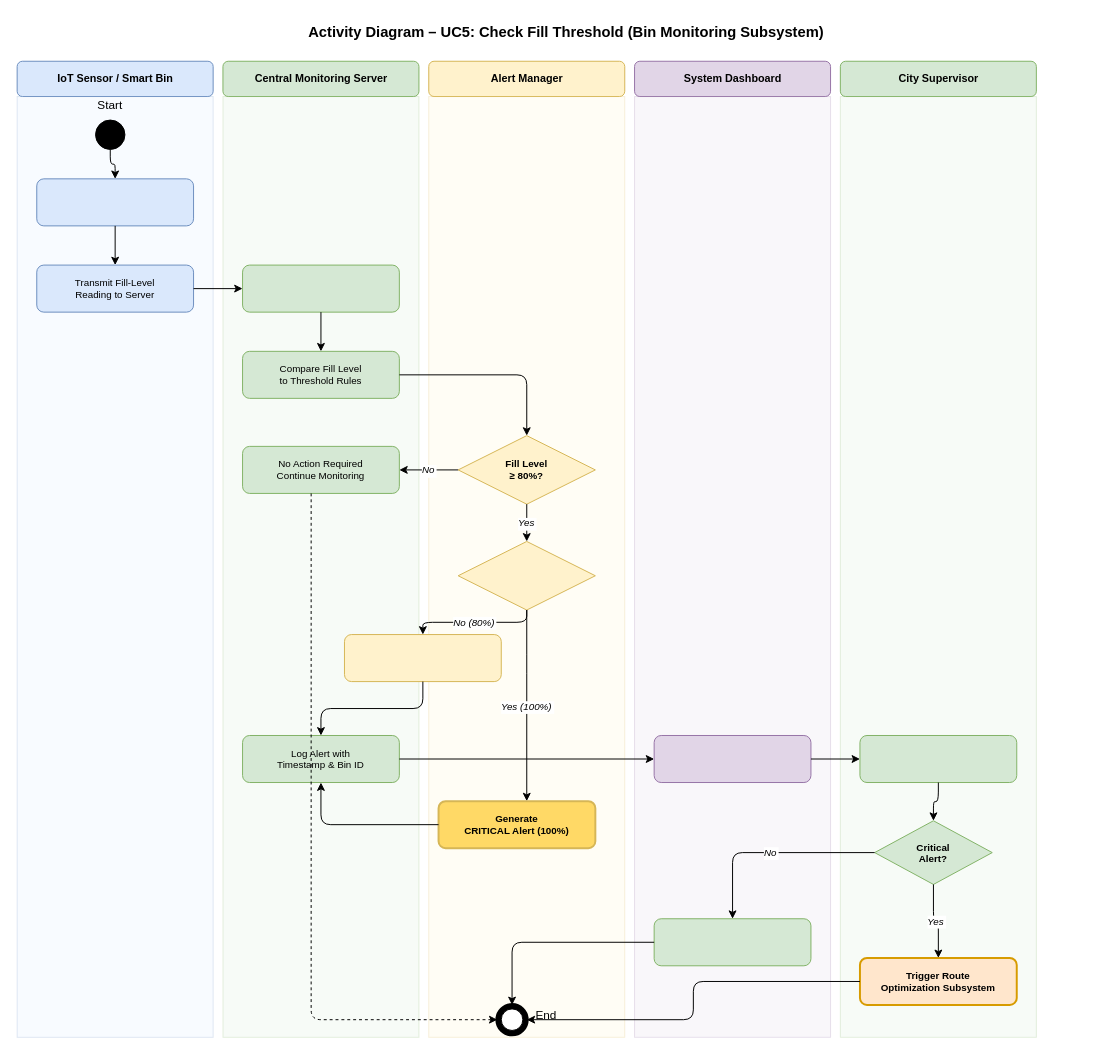
Image size: 1112x1054. Some labels were removed from this diagram. Each missing label, with the box of its shape:
Fill Level = 100%?: (457, 540, 595, 610)
Generate WARNING Alert (80%): (343, 634, 501, 682)
Push Alert to Live Dashboard: (653, 735, 811, 783)
Sensor Reads Current Fill Level: (36, 178, 194, 226)
Server Receives & Logs Reading: (242, 264, 399, 312)
Supervisor Acknowledges & Monitors Situation: (653, 918, 811, 966)
Supervisor Receives Alert Notification: (859, 735, 1017, 783)
